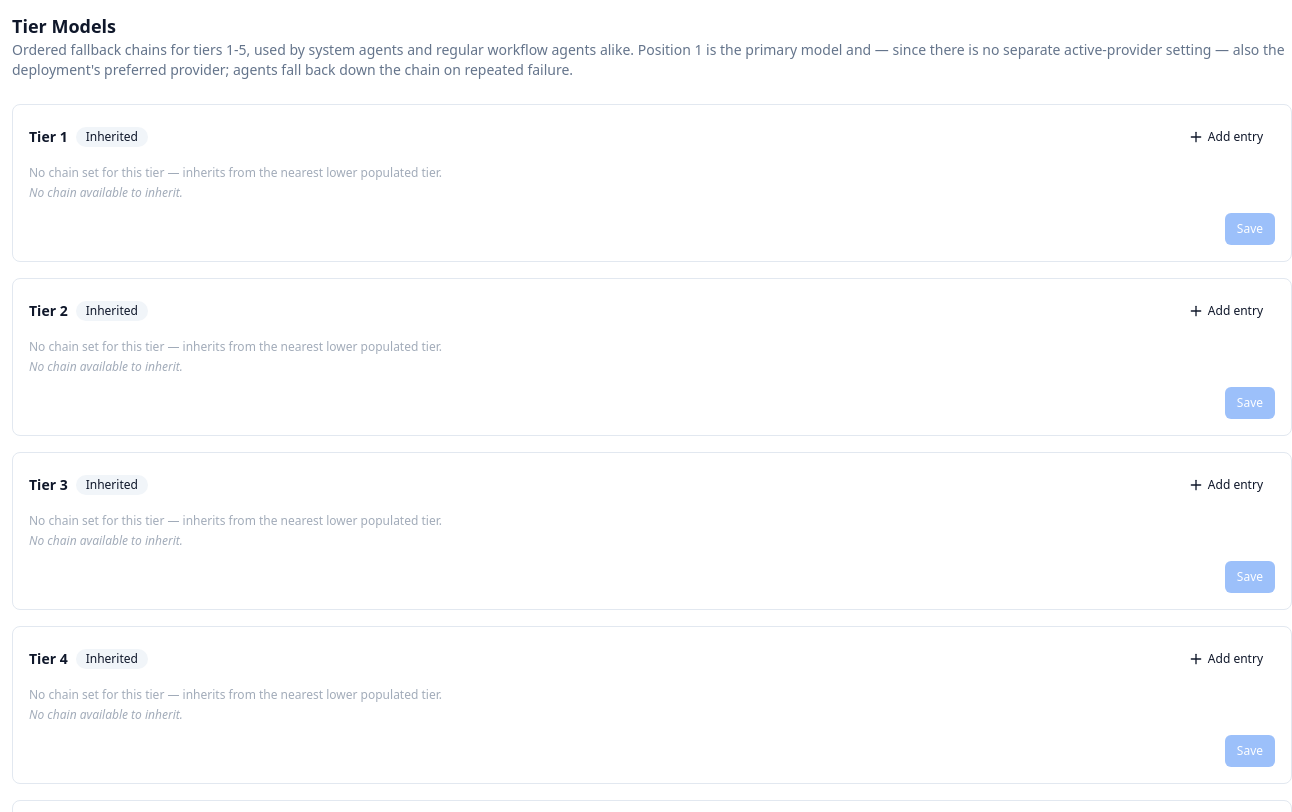
Scenario: TierModelsSection › add entry appends an editable row; remove drops it
This screenshot has width=1292, height=812.
Expected: the heading "Tier 1" is shown, [29,127,68,147]
Expected: the 1st text "No chain available to inherit." is shown, [29,184,183,201]
Click the 1st button "Add entry".
click(1225, 137)  # box [1176,121,1275,153]
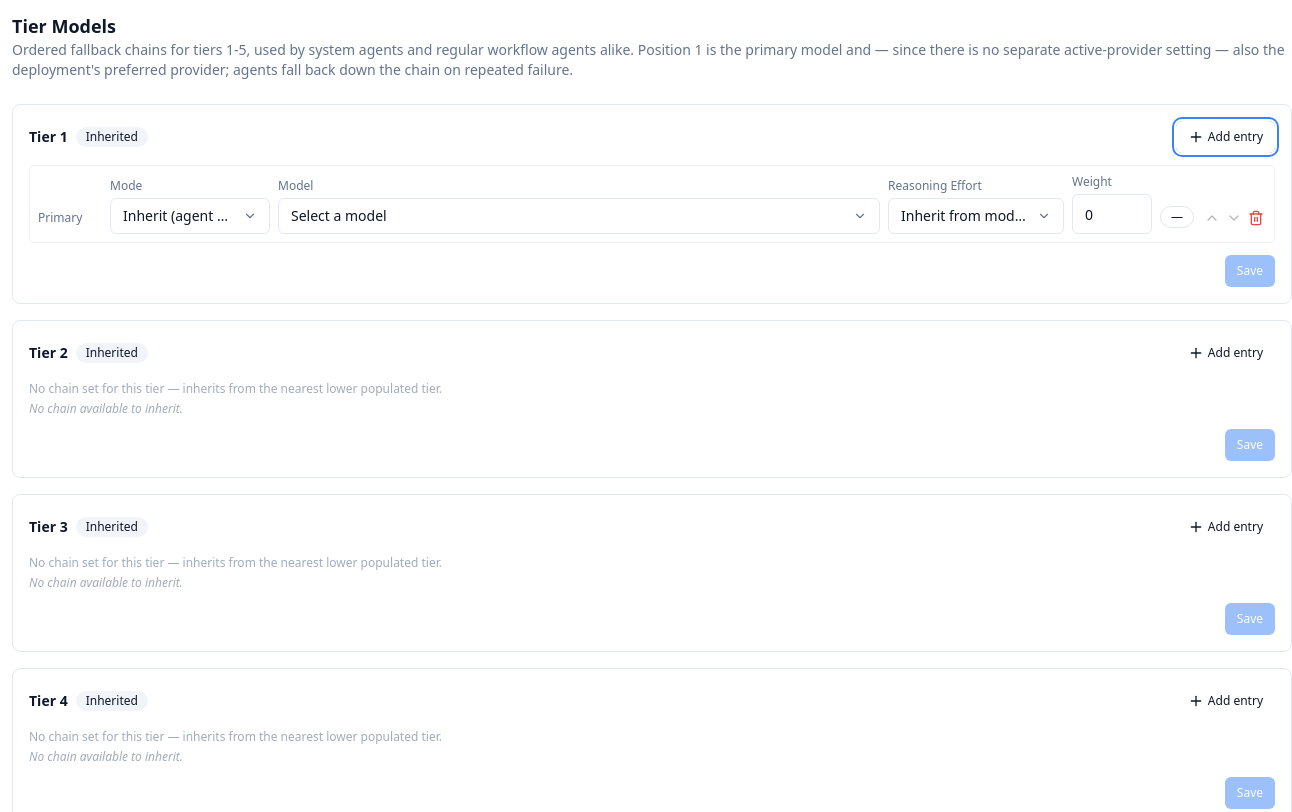
Expected: the text "Primary" is shown, [38,209,82,226]
Expected: the text "Select a model" is shown, [291,206,387,225]
Click the 1st button "Add entry".
click(1225, 137)  # box [1176,121,1275,153]
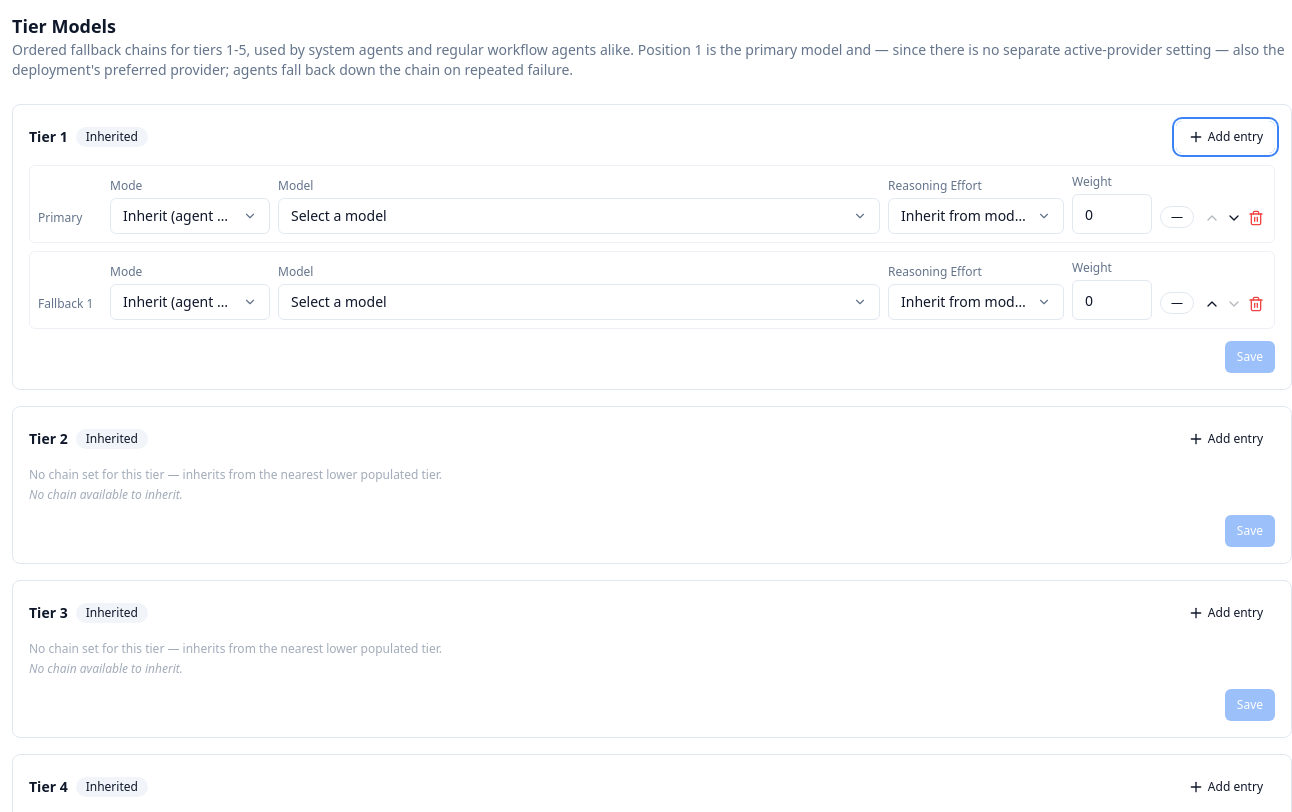
Expected: the text "Fallback 1" is shown, [38,296,102,320]
Click the button named "Remove entry 1".
click(1256, 218)  # box [1246,208,1266,228]
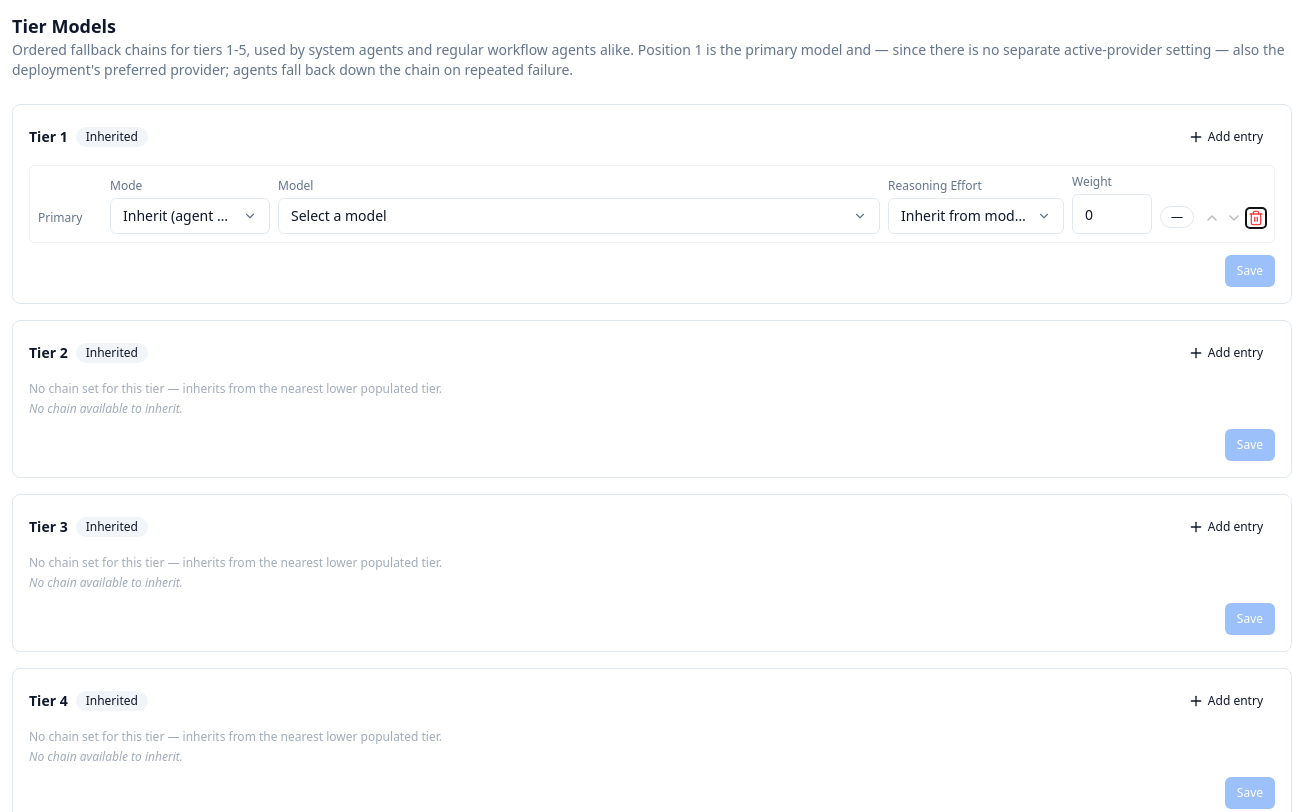
Expected: the text "Primary" is shown, [38,209,82,226]
Expected: the text "Fallback 1" is gone
